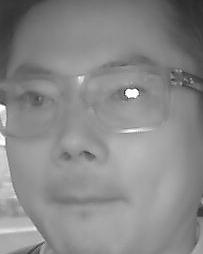glass: (82, 65, 172, 134), (1, 73, 60, 139)
mouth: (52, 183, 124, 218)
